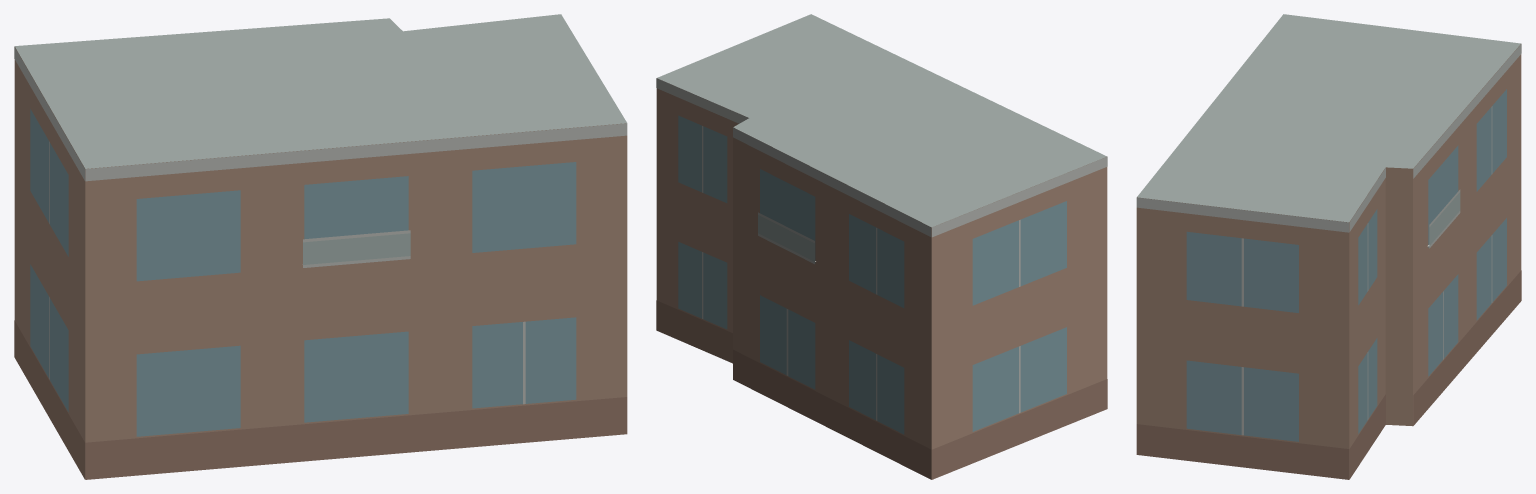
Rendered from survey-upis-32668213.glb.
3 views of the same model, side by side, from view 1: azimuth 30°, elevation 25°; view 2: azimuth 150°, elevation 25°; view 3: azimuth 270°, elevation 25° (orthographic). The views are drawn at different scales.
Visible parts, largest first — view 1: survey-upis-32668213.tmp; view 2: survey-upis-32668213.tmp; view 3: survey-upis-32668213.tmp.
Part boxes in pixels (<box>): survey-upis-32668213.tmp: <box>14,14,627,479</box>; survey-upis-32668213.tmp: <box>656,14,1107,479</box>; survey-upis-32668213.tmp: <box>1136,14,1521,479</box>.
Size of the model in its own units: 10.6 by 6.1 by 8.27.
